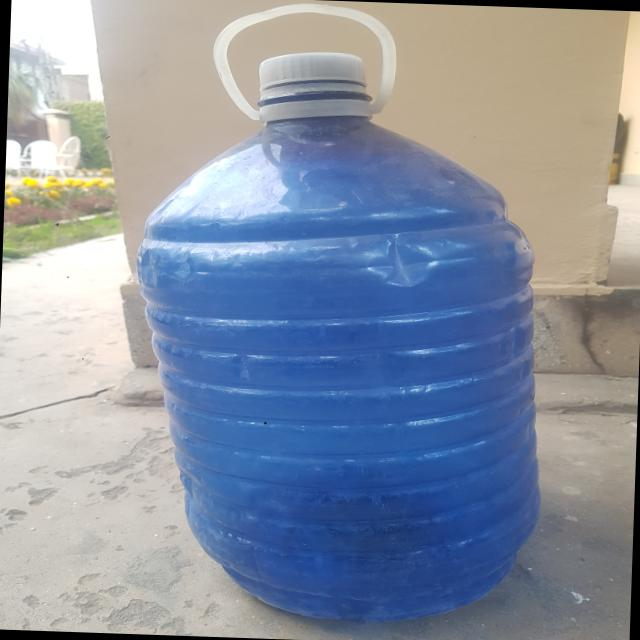general: (121, 0, 558, 628)
